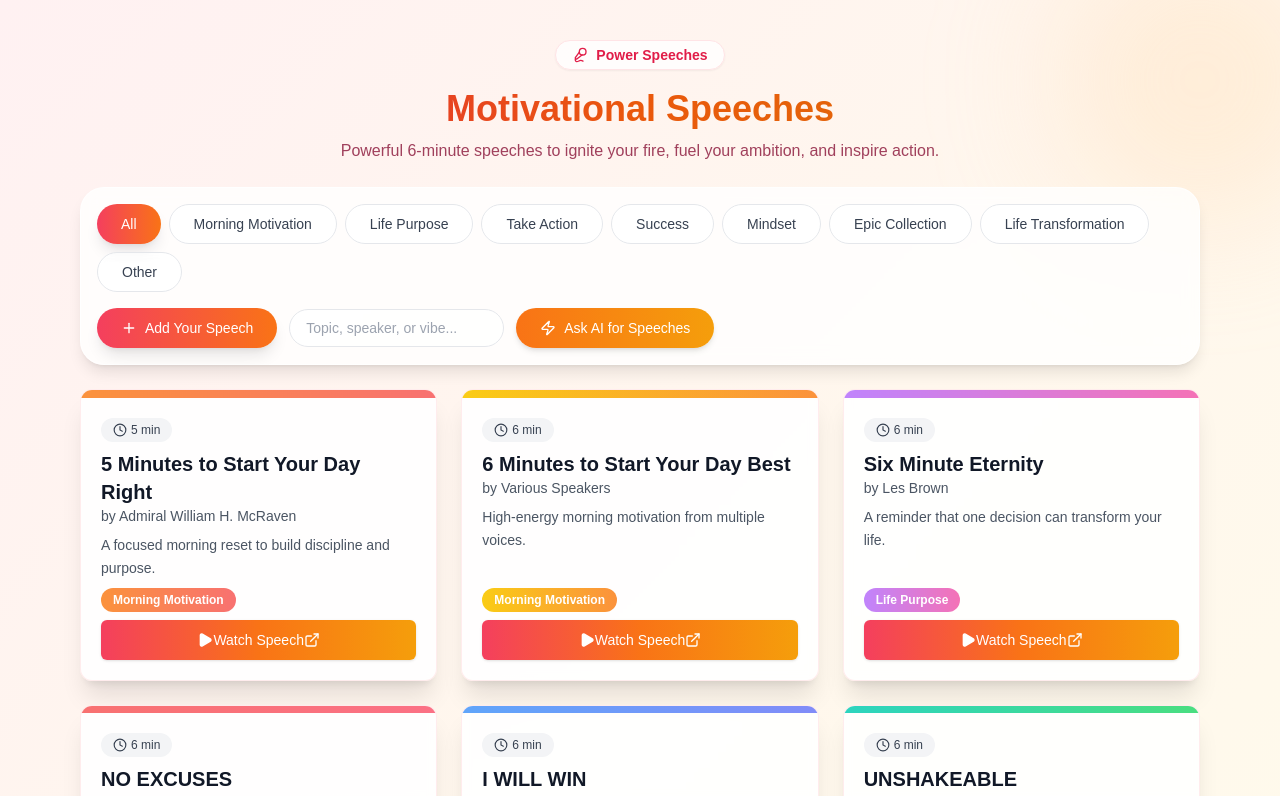
AISpeechesPage › filters speeches when selecting a category
Check: the heading "5 Minutes to Start Your Day Right" is shown, box [101, 453, 360, 503]
Click the button "Life Purpose".
click(409, 224)  # box [345, 204, 473, 244]
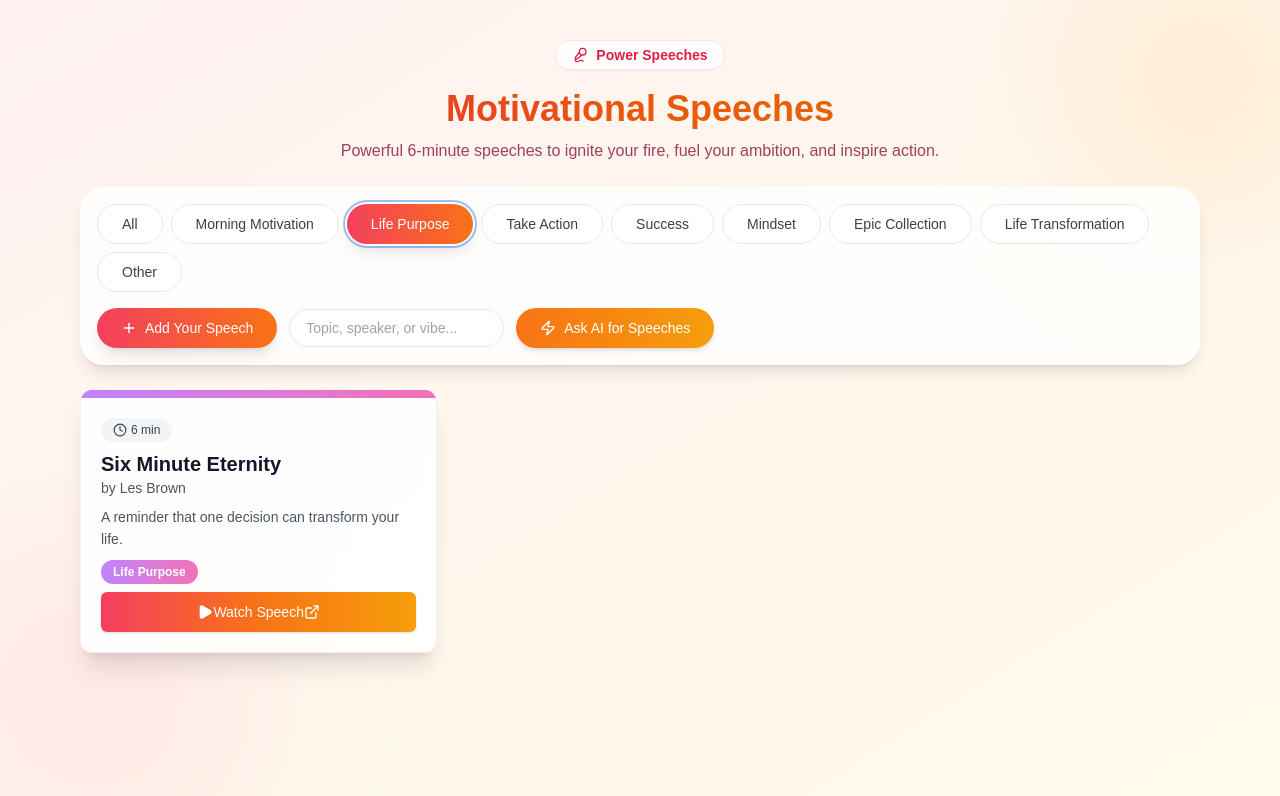
Check: the heading "Six Minute Eternity" is shown, box [101, 450, 281, 478]
Check: the heading "5 Minutes to Start Your Day Right" is gone
Check: the number of elements with test id "speech-card" is 1, box [80, 389, 437, 652]
